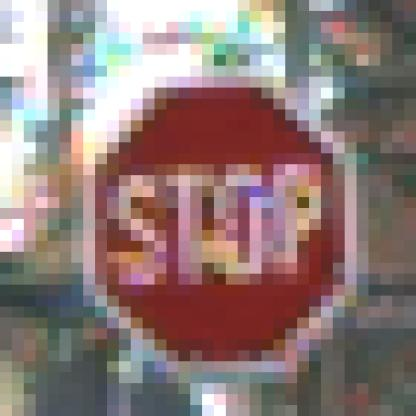Stop: (92, 76, 356, 370)
